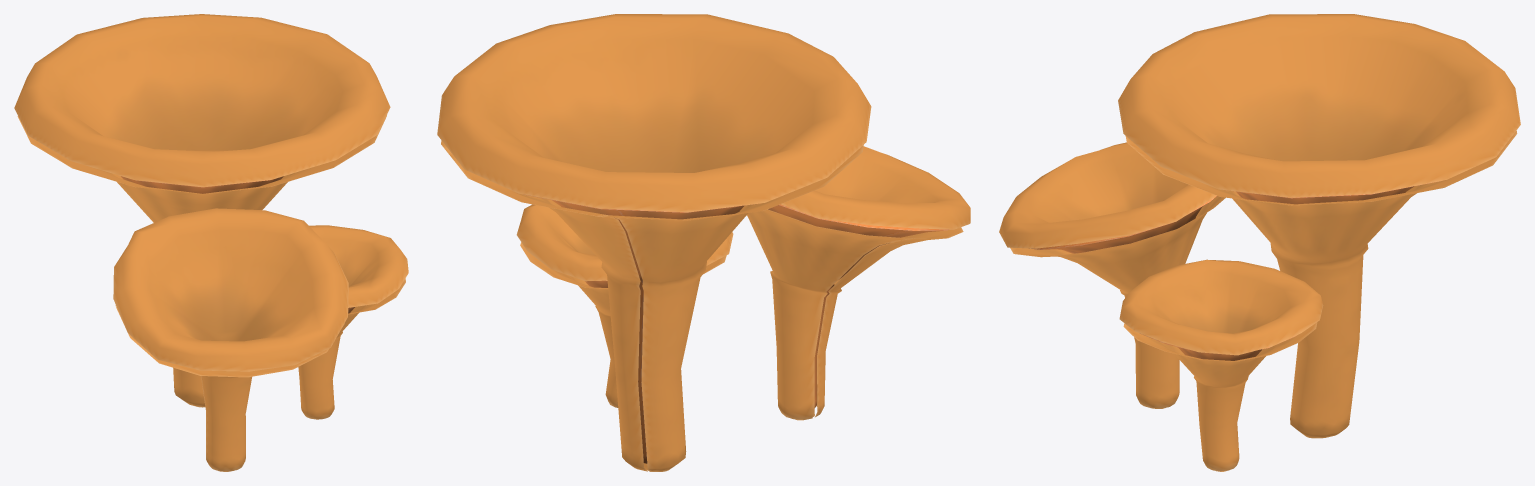
Rendered from houba_ryzec_svitici.glb.
The picture shows the model from 3 angles, left to right: view 1: azimuth 30°, elevation 25°; view 2: azimuth 150°, elevation 25°; view 3: azimuth 270°, elevation 25°; orthographic projection. The views are drawn at different scales.
Parts seen in each view (by area): view 1: noc, houba_ryzec_svitici; view 2: noc, houba_ryzec_svitici; view 3: noc, houba_ryzec_svitici.
Boxes of the visible parts, <box> form: noc: <box>14,14,408,471</box>; houba_ryzec_svitici: <box>121,176,354,313</box>; noc: <box>437,14,970,471</box>; houba_ryzec_svitici: <box>523,194,948,463</box>; noc: <box>999,14,1520,471</box>; houba_ryzec_svitici: <box>1029,180,1441,360</box>.
Size of the model in its own units: 0.1114 by 0.1027 by 0.1423.
2 materials, 2 textured.
